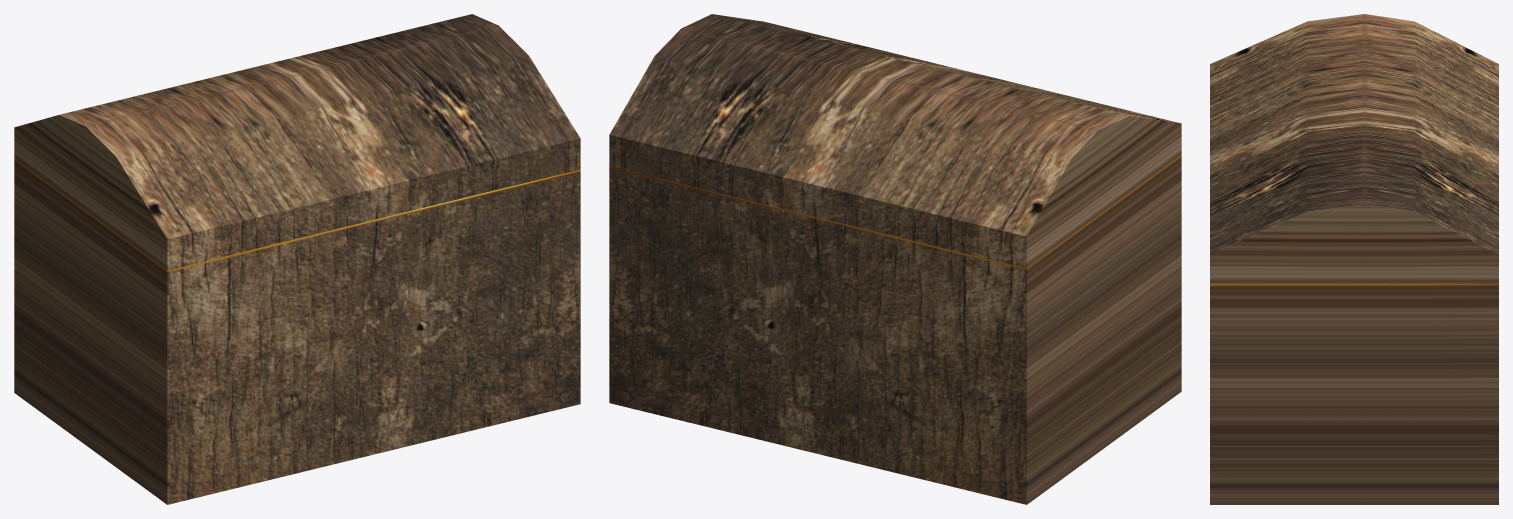
Rendered from treasure2.fbx.
3 renders of one model, left to right at view 1: azimuth 30°, elevation 25°; view 2: azimuth 150°, elevation 25°; view 3: azimuth 270°, elevation 25°, orthographic. The views are drawn at different scales.
Visible parts, largest first — view 1: pCube6; view 2: pCube6; view 3: pCube6.
Boxes of the visible parts, x1,y1,x2,y2 form: pCube6: (14,14,580,504); pCube6: (609,14,1181,504); pCube6: (1210,14,1498,504).
Size of the model in its own units: 1.78 by 1.32 by 1.15.
